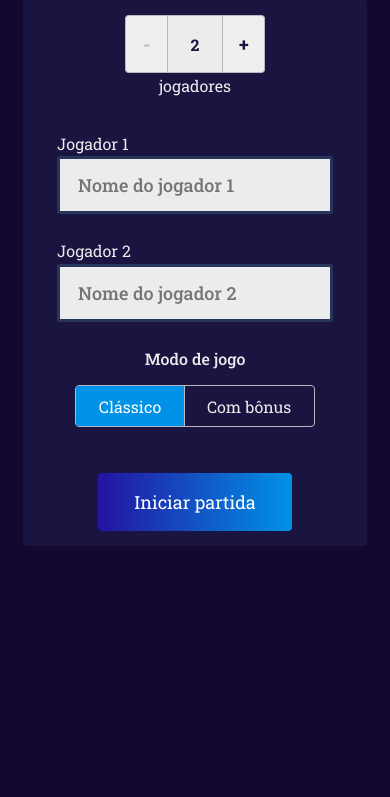
Test case: cadastro de jogadores › diminui a quantidade de jogadores acima do mínimo
Step 1. Replace the text in the number field with "5" → x=195, y=44, box [167,15,223,73]
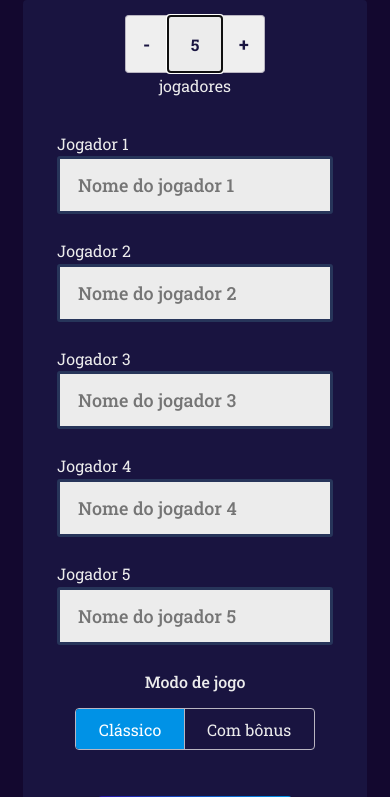
Step 2. Click the button named "menos um jogador" → x=146, y=44, box [125,15,167,73]
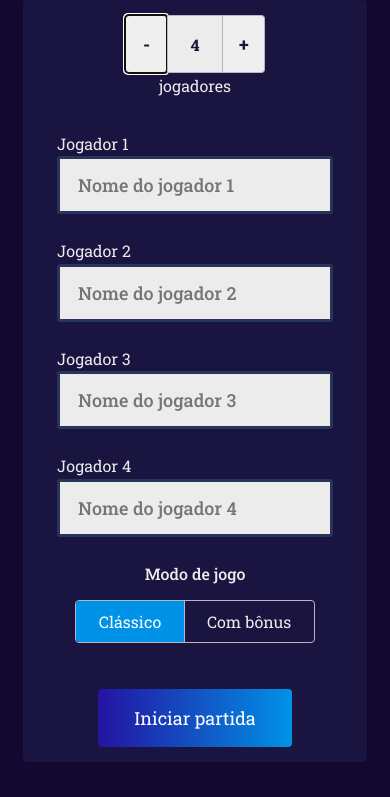
Expected: the field with placeholder "Nome do jogador 5" is not shown
Expected: the number field holds "4", [167,15,223,73]
